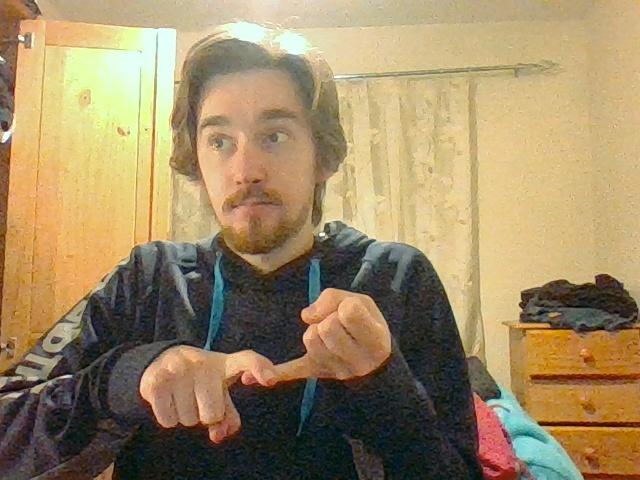step: (153, 287, 392, 444)
